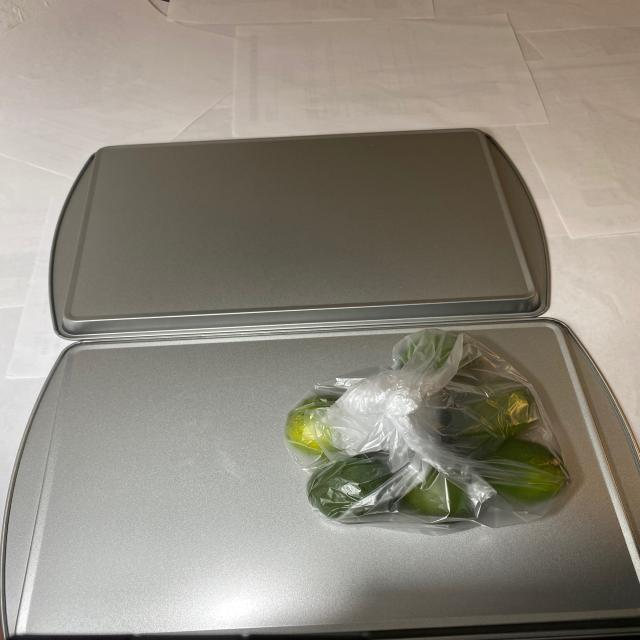lemon: (276, 330, 575, 523)
